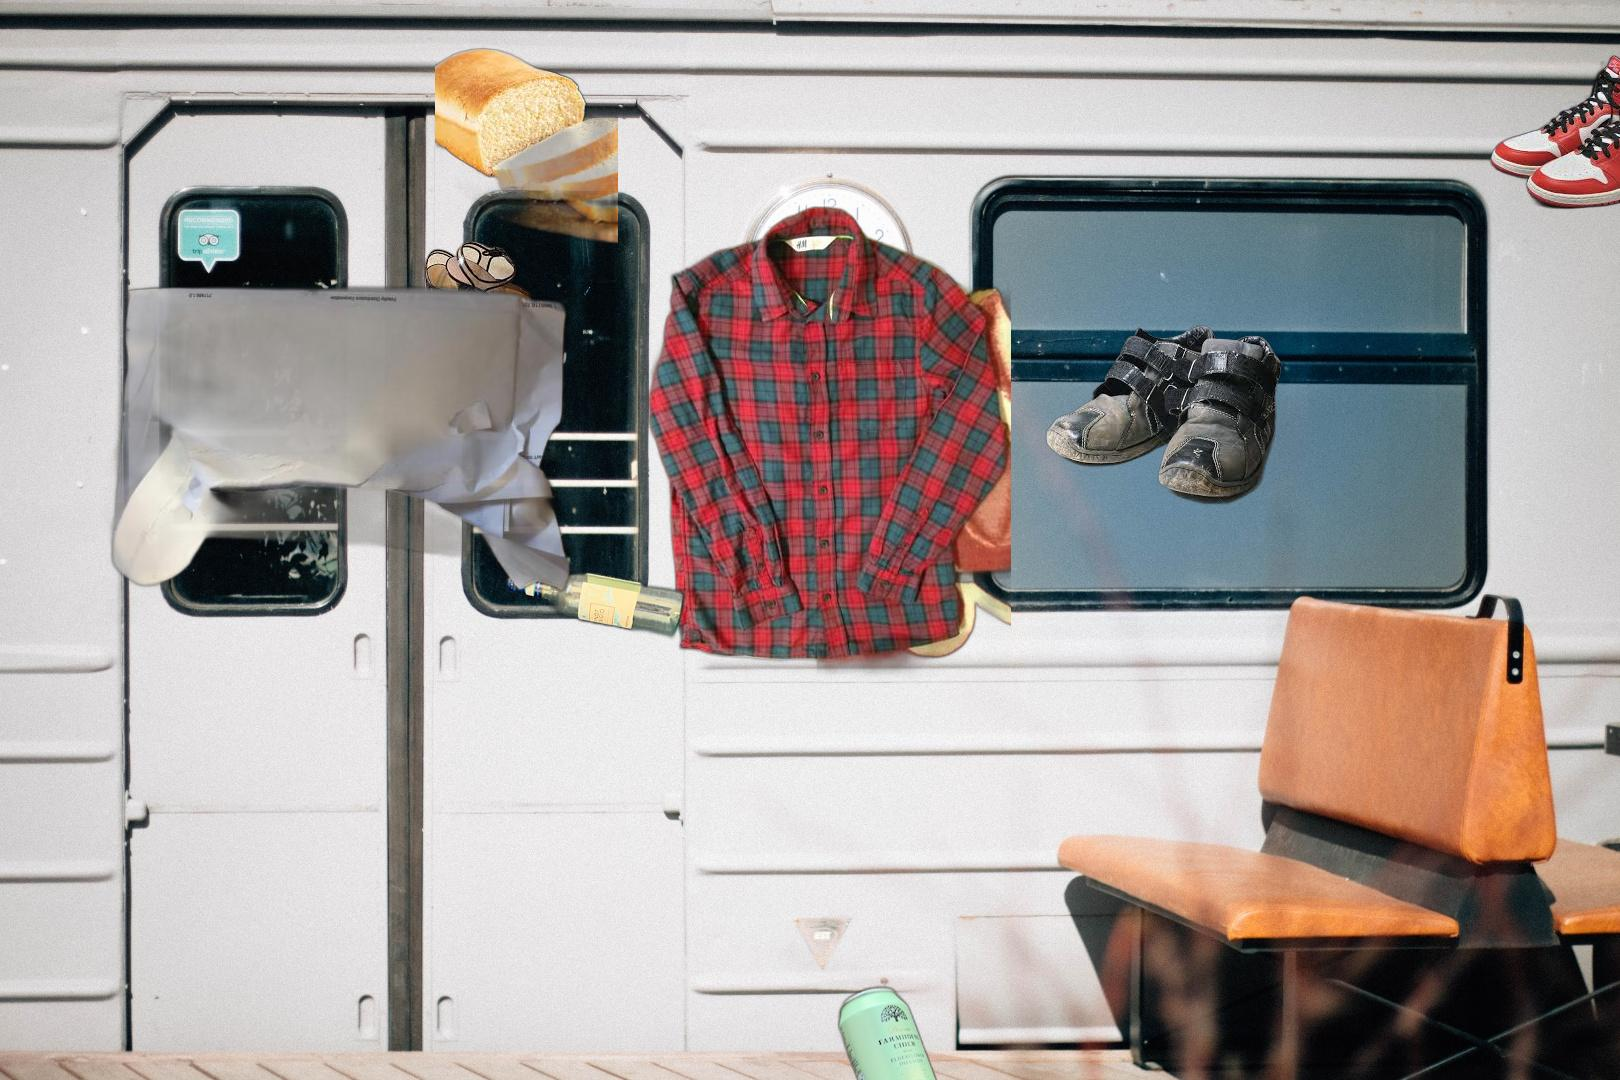biological: (435, 46, 618, 269)
clothes: (645, 202, 1011, 682)
glass: (501, 385, 843, 642)
metal-cans: (833, 981, 949, 1080)
paper: (70, 281, 579, 628)
shoes: (1044, 323, 1284, 505), (401, 237, 571, 442), (1487, 51, 1620, 212)
